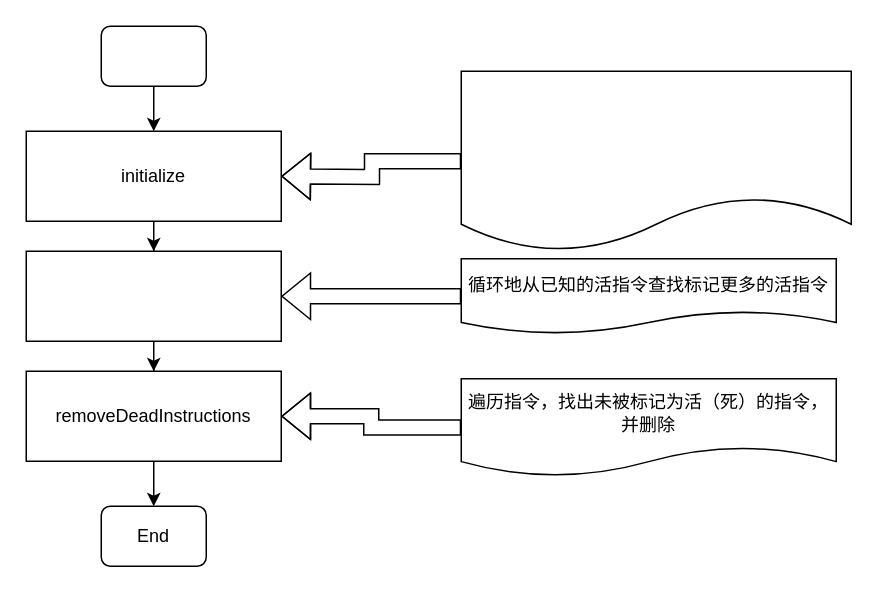
This 878x593 diagram has some shape labels left out. The box of each missing label's shape, as (x1, y1, x2, y2) in pixels:
markLiveInstructions: (25, 250, 281, 341)
Start: (100, 25, 206, 86)
主要任务是初始化结构体，以及找到开始时就能确定为活的指令作为活指令查找的初始条件: (460, 70, 851, 251)
